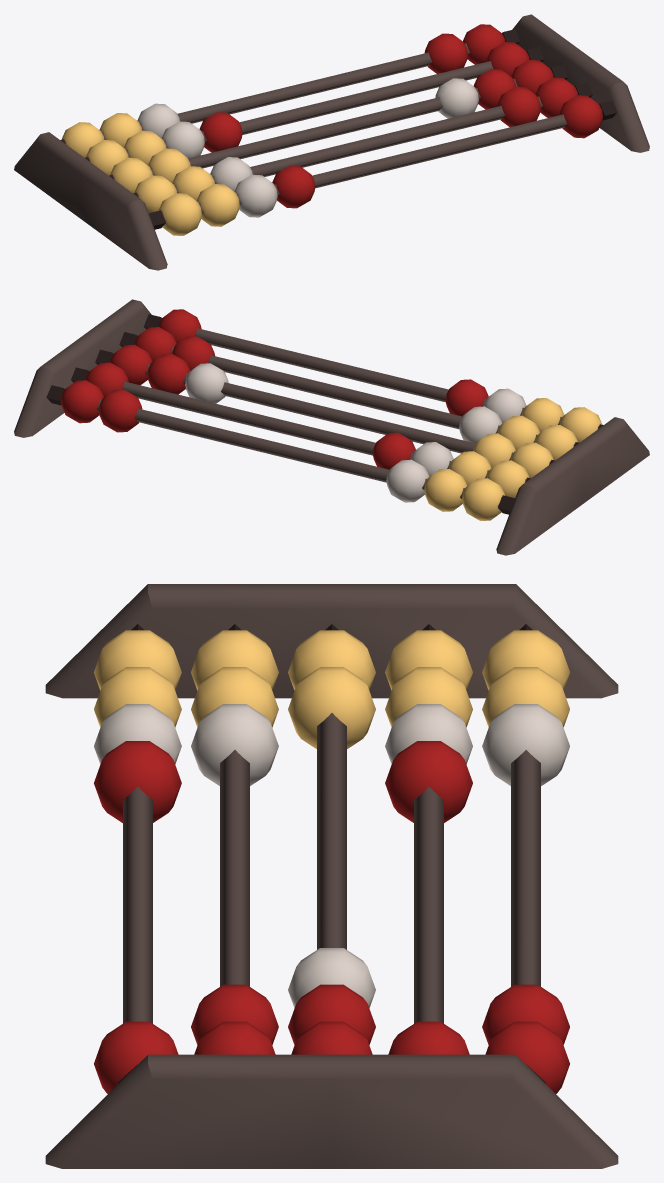
The model's file is FI_074_abacus.glb.
3 views of the same model, one above another, from view 1: azimuth 30°, elevation 25°; view 2: azimuth 150°, elevation 25°; view 3: azimuth 270°, elevation 25° (orthographic). The views are drawn at different scales.
Parts seen in each view (by area): view 1: abacus; view 2: abacus; view 3: abacus.
Boxes of the visible parts, x1,y1,x2,y2 form: abacus: [14, 14, 649, 270]; abacus: [14, 299, 649, 555]; abacus: [45, 584, 618, 1168].
Size of the model in its own units: 1.31 by 0.126 by 0.6487.
